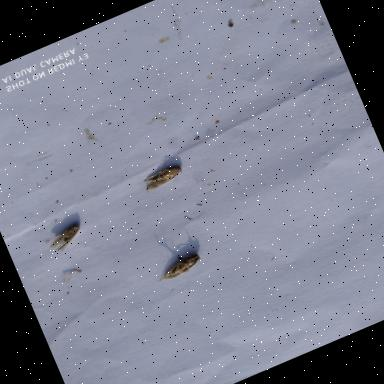pbw: (152, 248, 206, 285), (136, 159, 187, 196), (40, 220, 88, 259)
